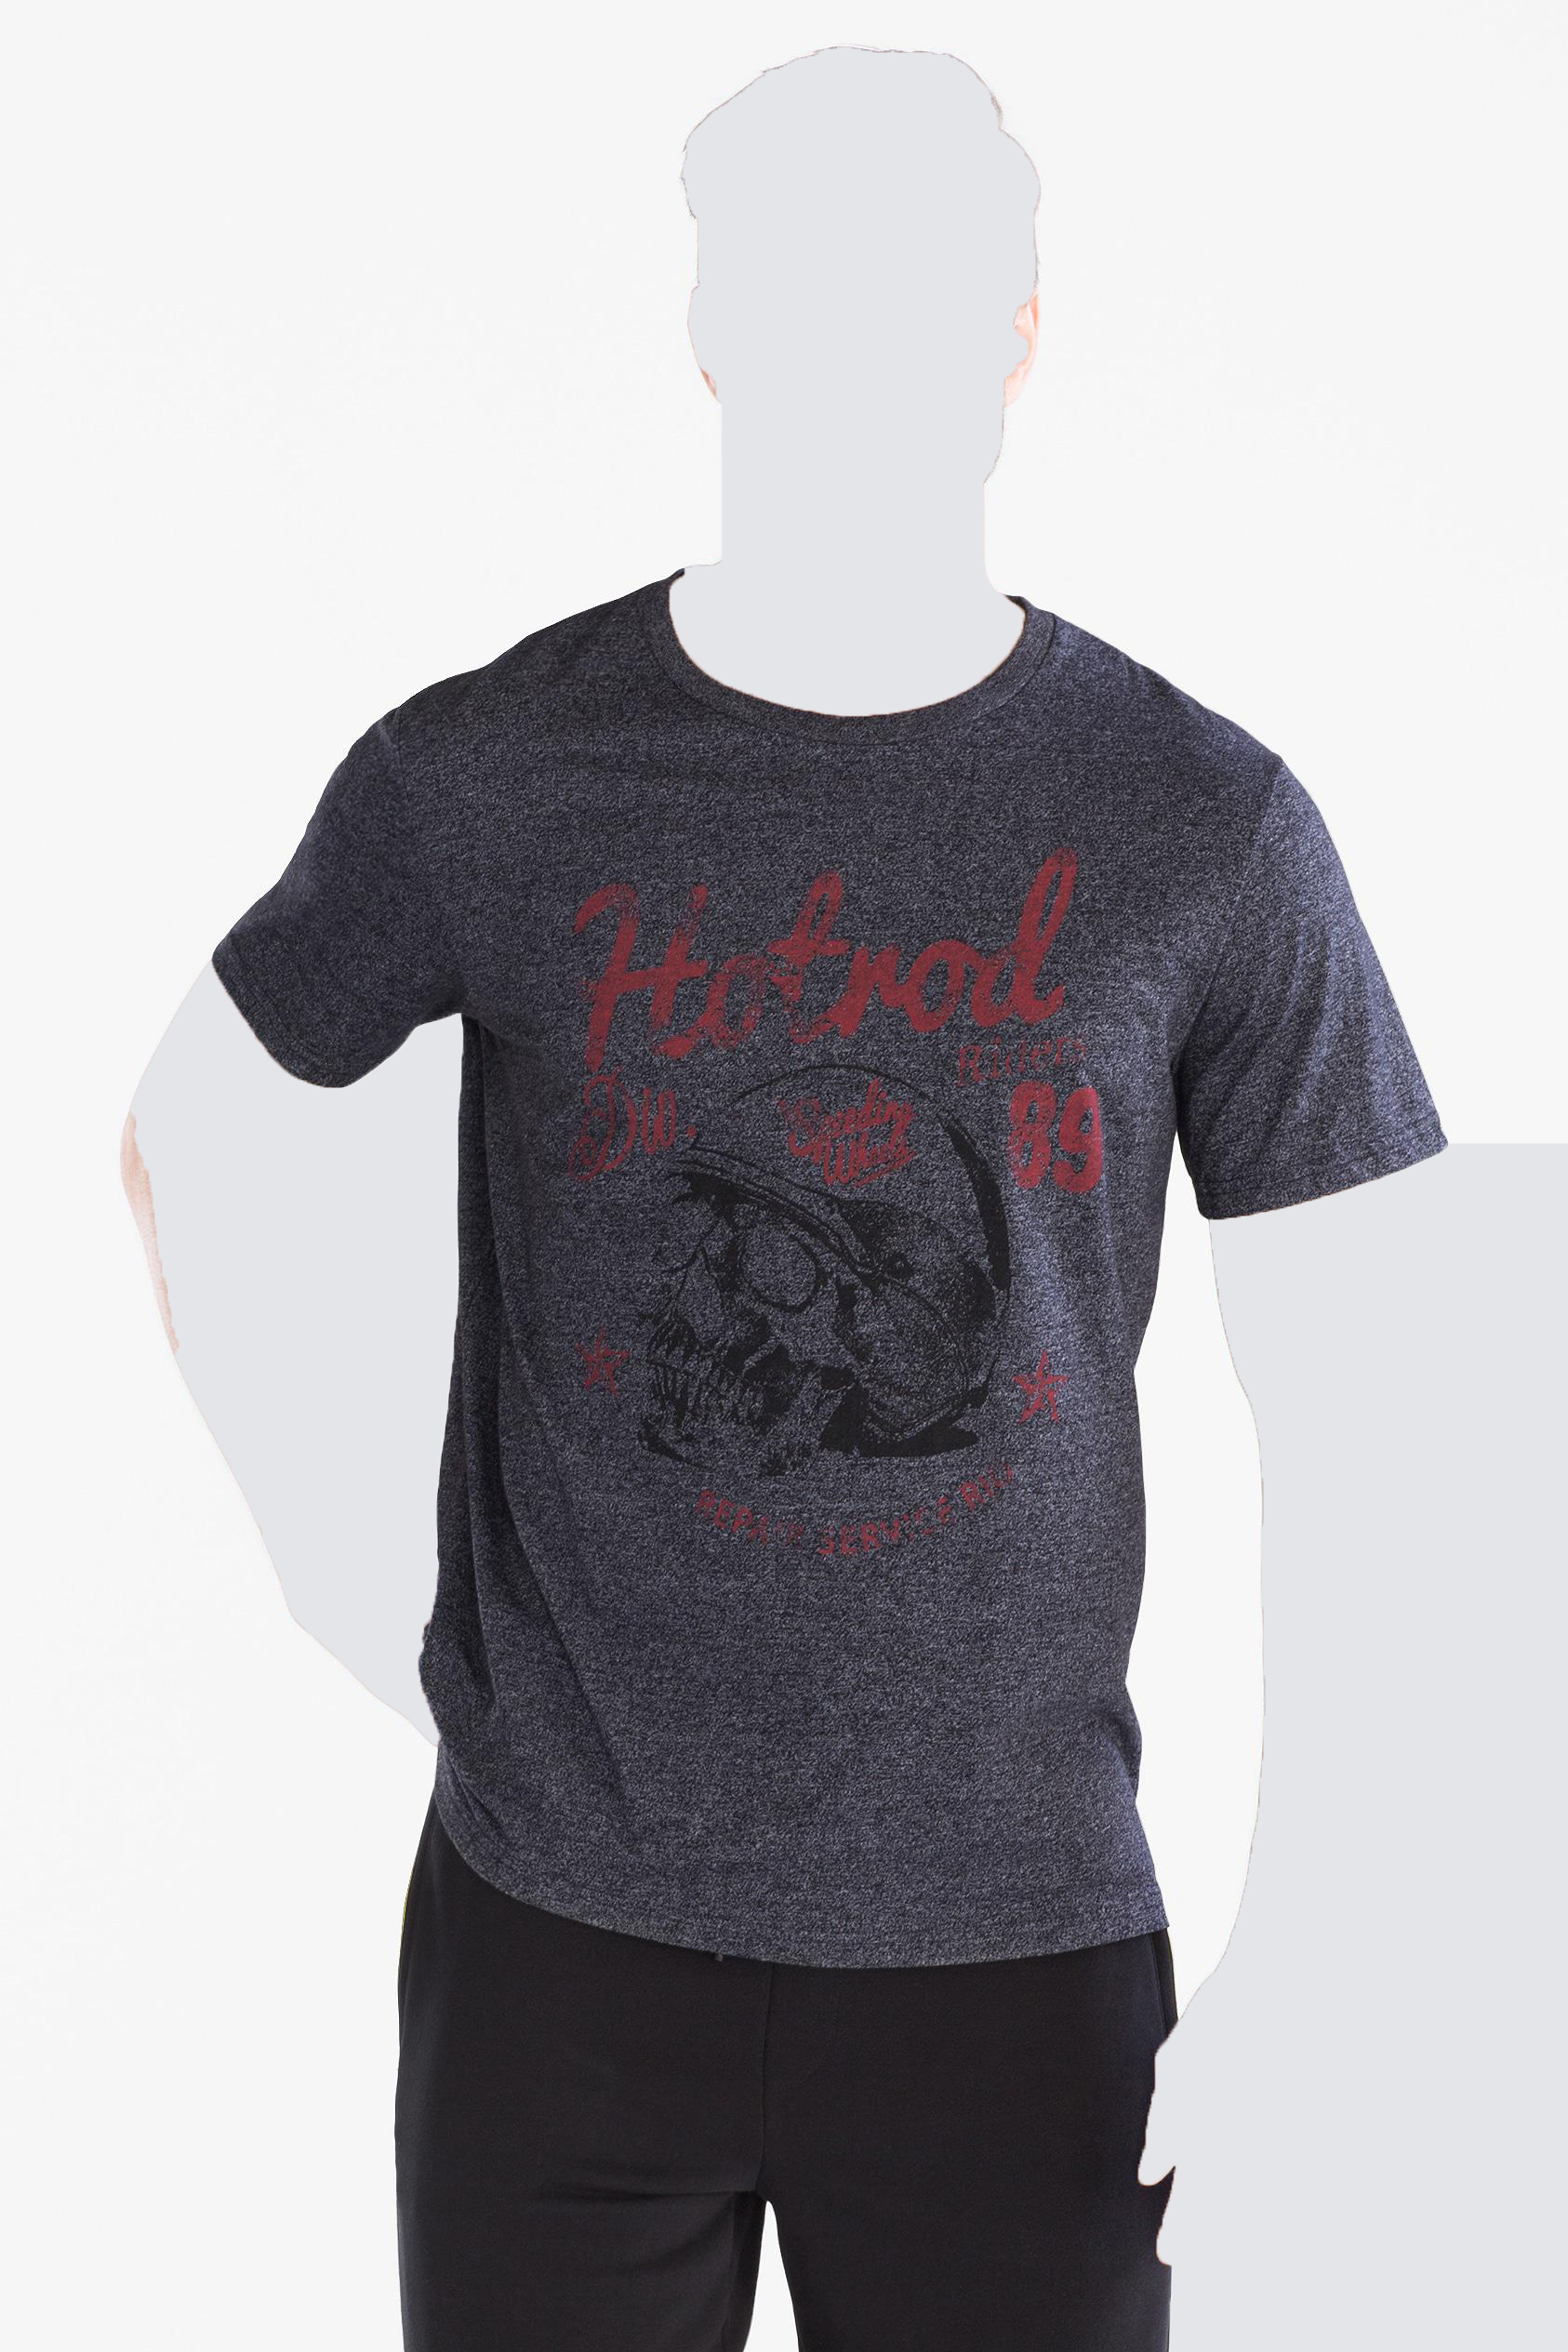teeshirt: (187, 553, 1465, 1958)
